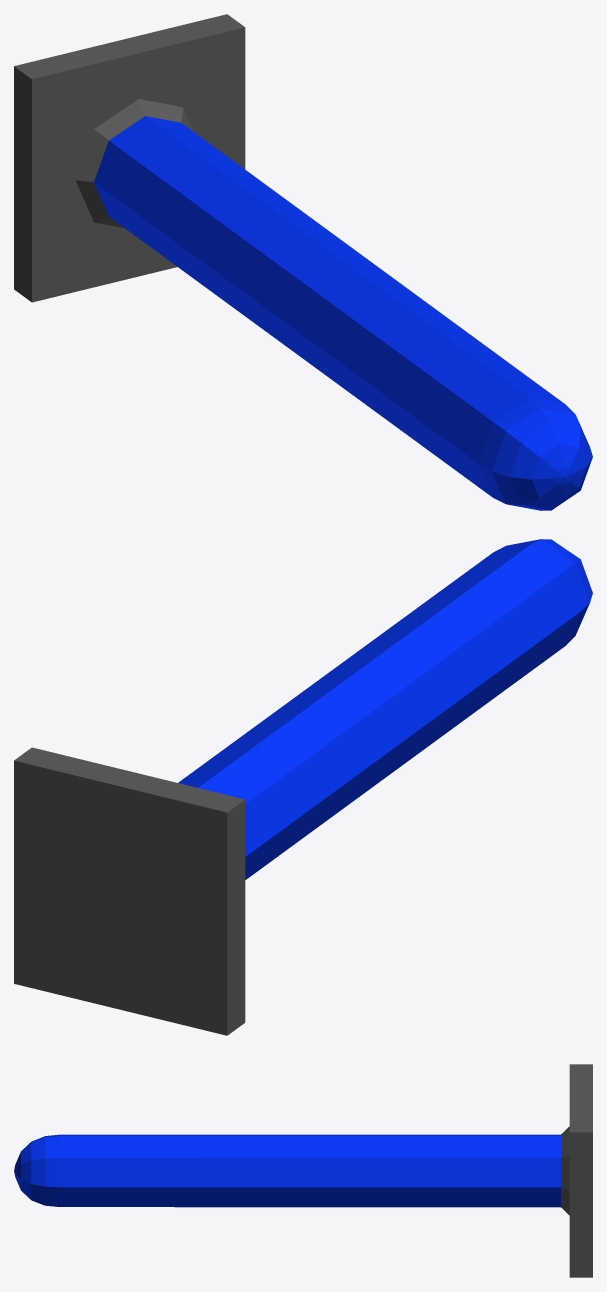
File: Hold_Stick.fbx
3 renders of one model, top to bottom at view 1: azimuth 30°, elevation 25°; view 2: azimuth 150°, elevation 25°; view 3: azimuth 270°, elevation 25°, orthographic. The views are drawn at different scales.
Visible parts, largest first — view 1: Hold_Stick; view 2: Hold_Stick; view 3: Hold_Stick.
Part boxes in pixels (left/top/right/bottom): Hold_Stick: left=14, top=14, right=592, bottom=510; Hold_Stick: left=14, top=539, right=592, bottom=1035; Hold_Stick: left=14, top=1064, right=592, bottom=1277.
Bounding box in the file's own units: 702 × 702 × 2531.
